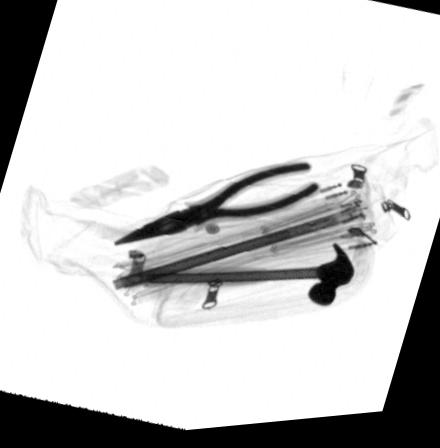Hammer: (140, 248, 356, 314)
Pliers: (111, 168, 320, 248)
